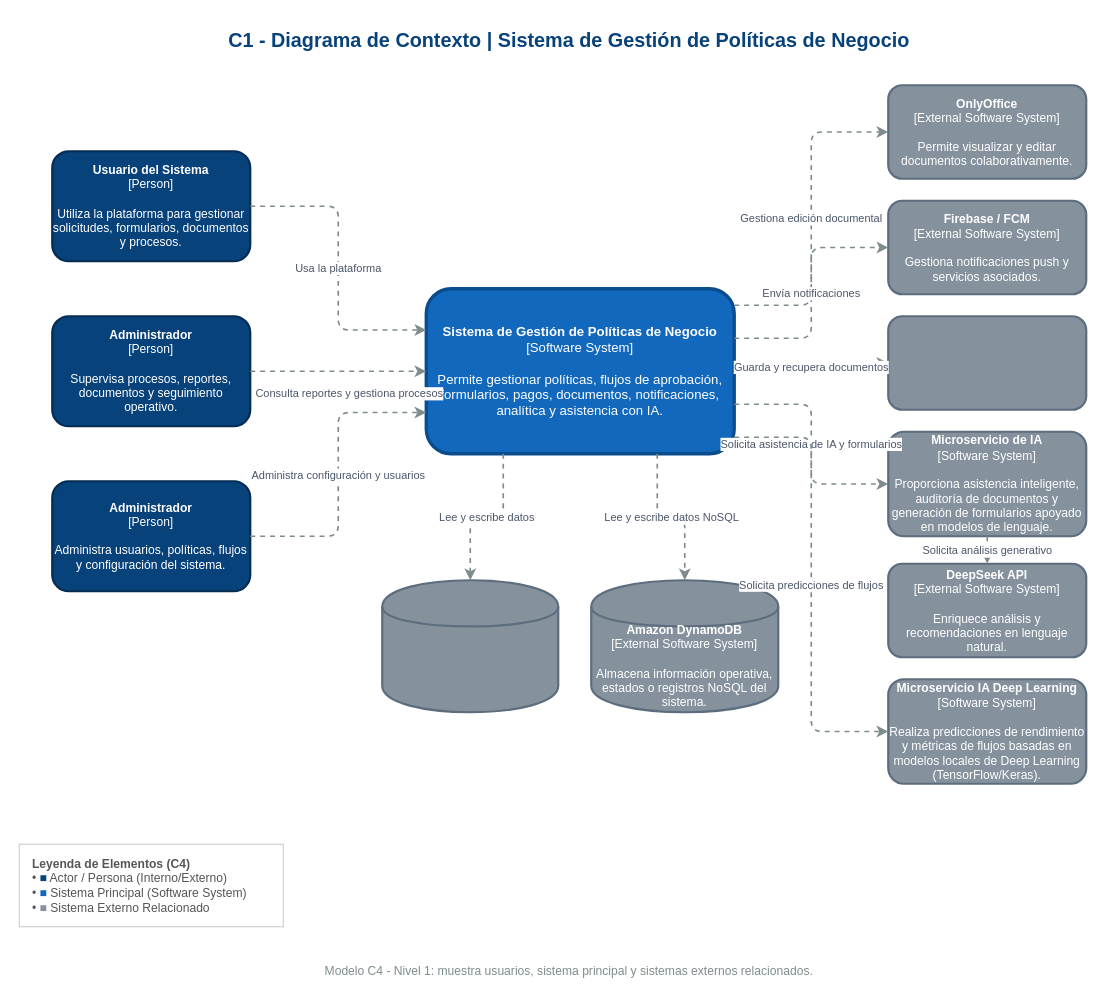
Some shapes in this 1107 by 1005 pixel diagram are drawn without their labels. Each missing label, with the centre of its shape:
Amazon S3 [External Software System] Almacena documentos y archivos del sistema.: (x=987, y=362)
MongoDB [External Software System] Almacena datos operativos del sistema.: (x=470, y=646)
